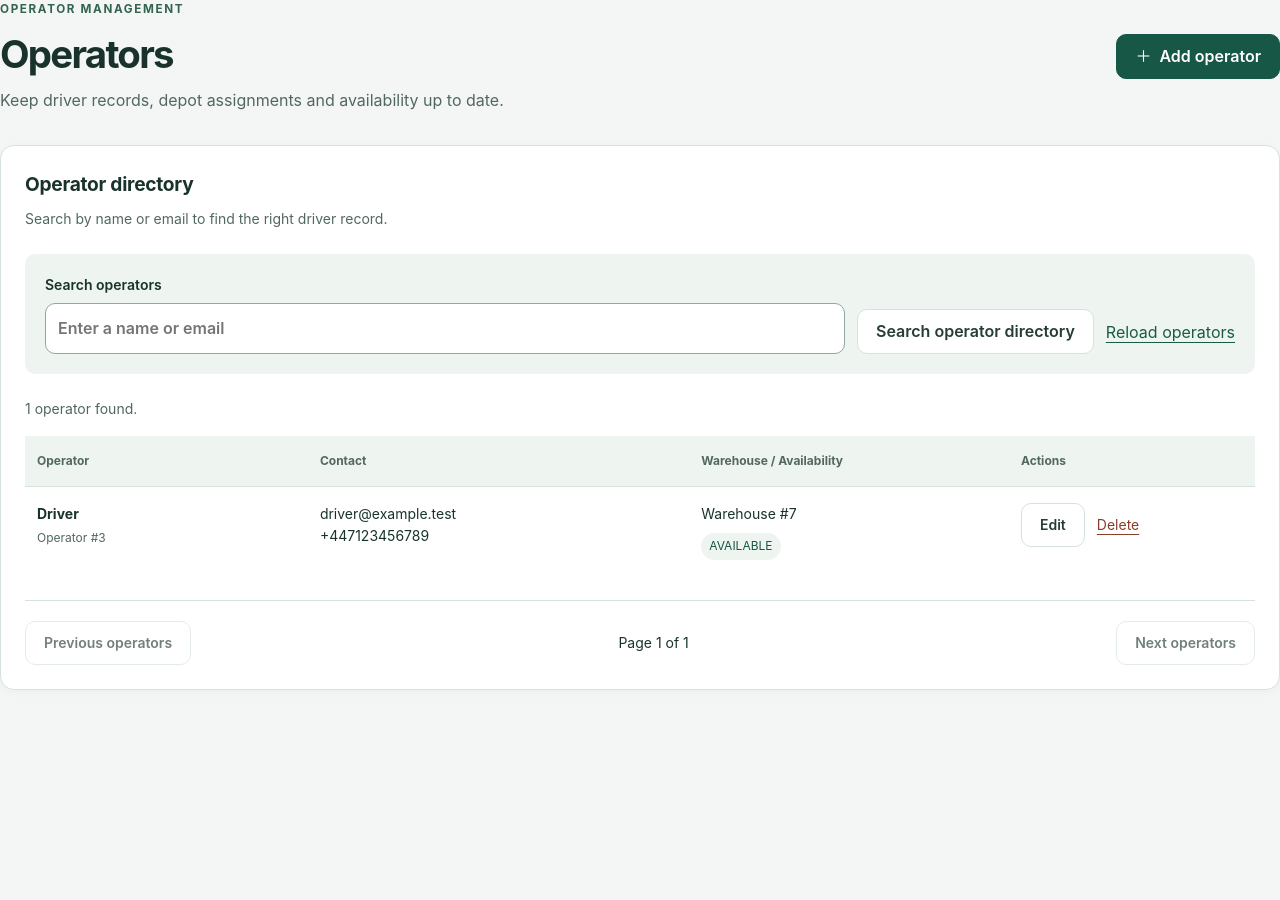
Test: operator setup workflow › locks operational fields for ON_DELIVERY while keeping contact edits available
Click the button with aria-label "Edit operator #3". click: (1053, 525)
box: 1021,503 -> 1085,547
(page scrolled)
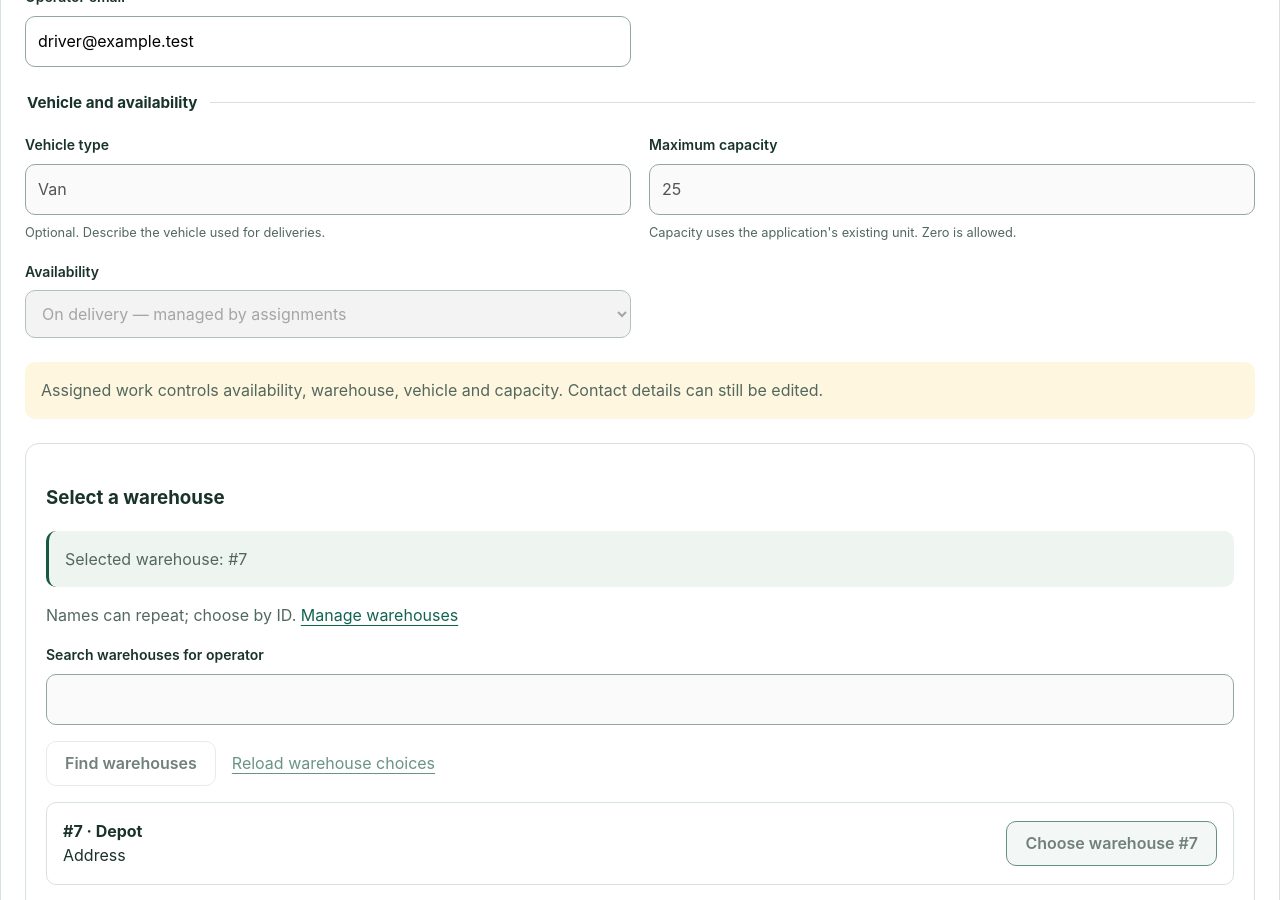
Result: the field labelled "Vehicle type" is disabled at 25,164 -> 631,215
Result: the number field labelled "Maximum capacity" is disabled at 649,164 -> 1255,215
Result: the dropdown labelled "Availability" is disabled at 25,290 -> 631,338
Submit the form named "Save operator"
(page scrolled)
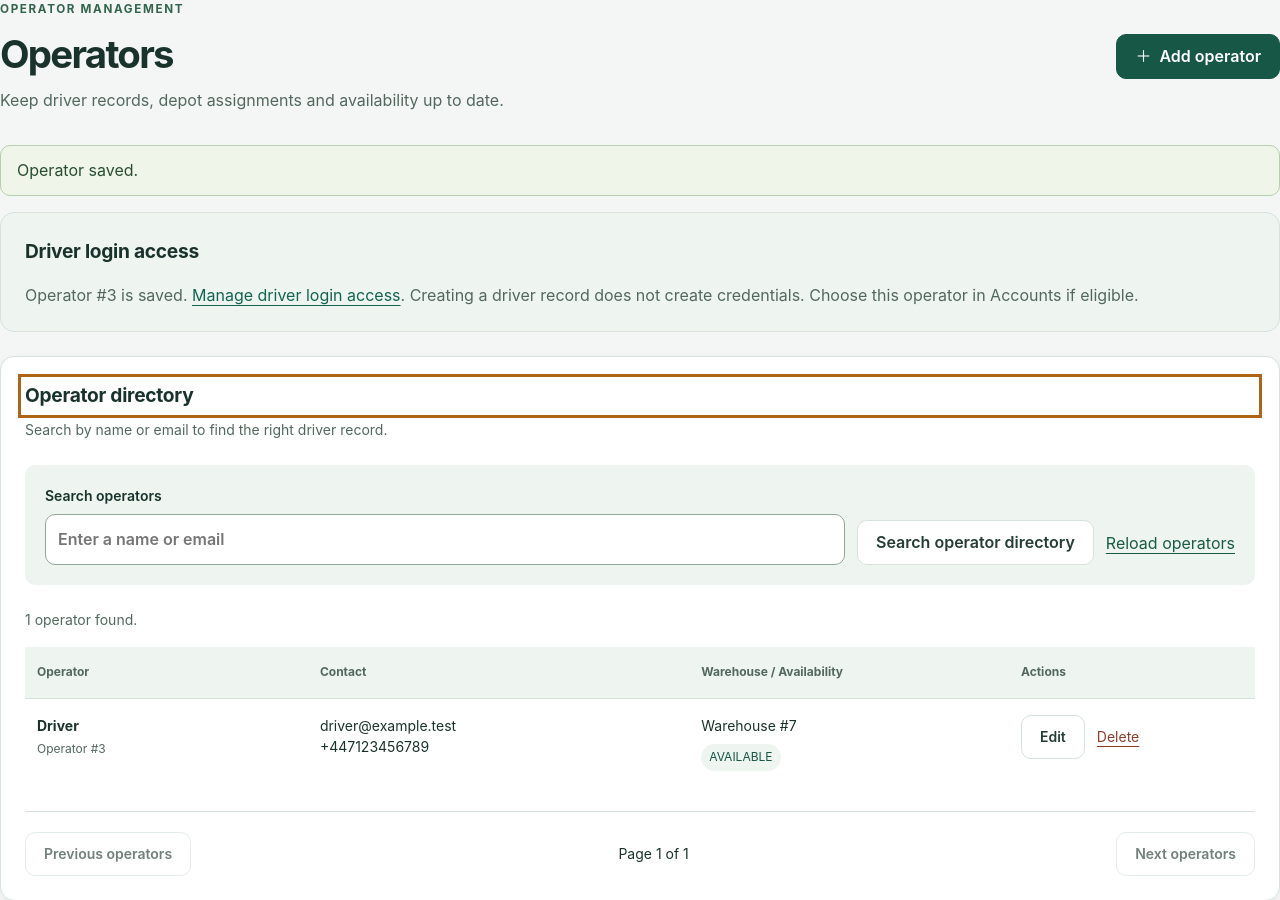
Result: the text "Operator saved." is shown at 0,145 -> 1279,196
